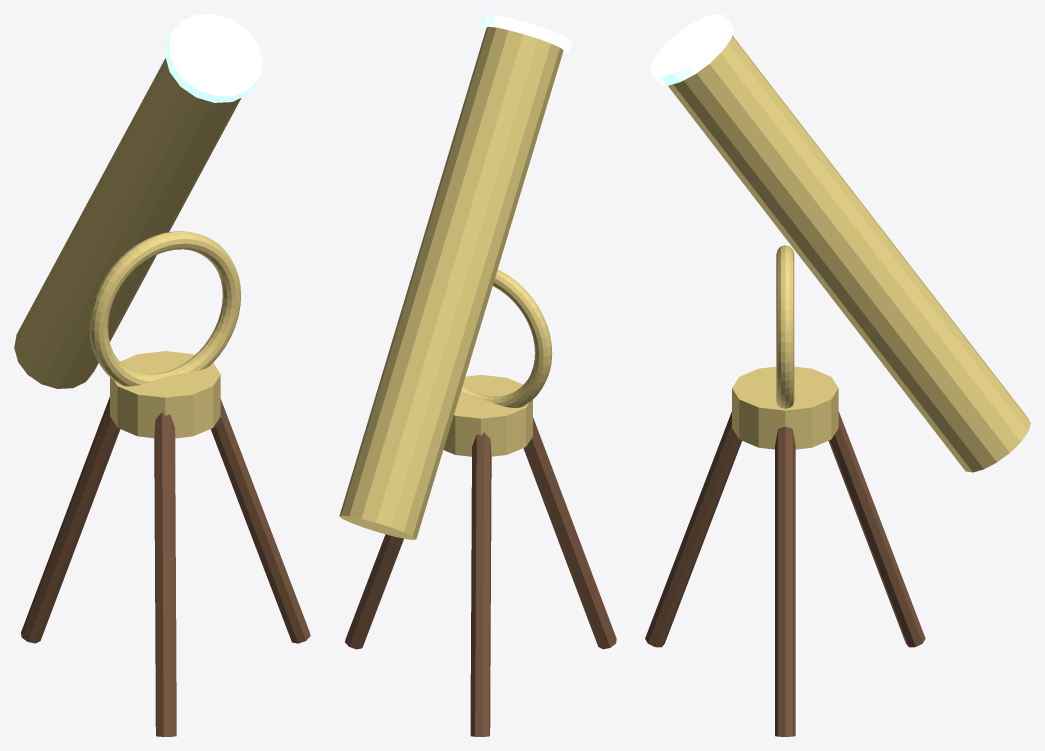
The model's file is celestial_telescope.glb.
The picture shows the model from 3 angles, left to right: view 1: azimuth 30°, elevation 25°; view 2: azimuth 150°, elevation 25°; view 3: azimuth 270°, elevation 25°; orthographic projection. The views are drawn at different scales.
Parts seen in each view (by area): view 1: TelescopeBarrel, Torus, Cylinder, Cylinder.003, AstromancersLens, Cylinder.002, Cylinder.001; view 2: TelescopeBarrel, Cylinder.002, Cylinder, Cylinder.003, Torus, Cylinder.001, AstromancersLens; view 3: TelescopeBarrel, Cylinder, Cylinder.001, Cylinder.002, Cylinder.003, AstromancersLens, Torus.
Boxes of the visible parts, x1=… form: TelescopeBarrel: x1=14, y1=58, x2=241, y2=388; Torus: x1=89, y1=231, x2=240, y2=386; Cylinder: x1=110, y1=351, x2=220, y2=438; Cylinder.003: x1=154, y1=412, x2=176, y2=736; AstromancersLens: x1=165, y1=14, x2=262, y2=102; Cylinder.002: x1=21, y1=397, x2=120, y2=643; Cylinder.001: x1=210, y1=399, x2=310, y2=643; TelescopeBarrel: x1=339, y1=26, x2=563, y2=539; Cylinder.002: x1=470, y1=432, x2=491, y2=736; Cylinder: x1=443, y1=375, x2=532, y2=456; Cylinder.003: x1=523, y1=417, x2=616, y2=649; Torus: x1=460, y1=270, x2=552, y2=407; Cylinder.001: x1=345, y1=534, x2=403, y2=649; AstromancersLens: x1=481, y1=14, x2=572, y2=52; TelescopeBarrel: x1=668, y1=35, x2=1030, y2=472; Cylinder: x1=732, y1=366, x2=838, y2=449; Cylinder.001: x1=775, y1=426, x2=795, y2=736; Cylinder.002: x1=828, y1=411, x2=925, y2=647; Cylinder.003: x1=645, y1=411, x2=741, y2=647; AstromancersLens: x1=650, y1=14, x2=733, y2=85; Torus: x1=776, y1=245, x2=794, y2=408.
Bounding box in the file's own units: 0.8273 × 2.44 × 1.31.
